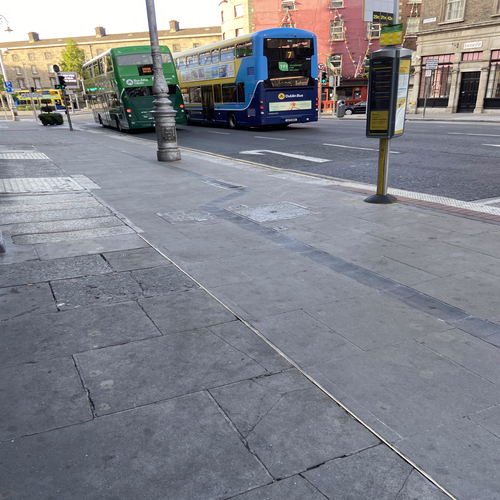Bus: (170, 26, 321, 128), (80, 46, 191, 132)
